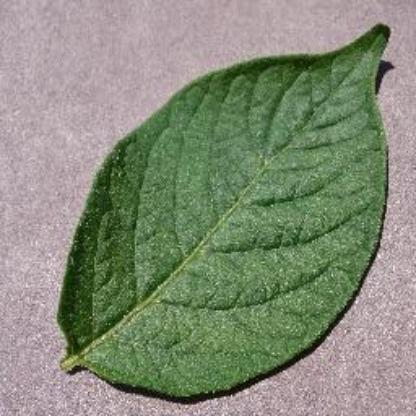Healthy-plant: (48, 20, 400, 400)
